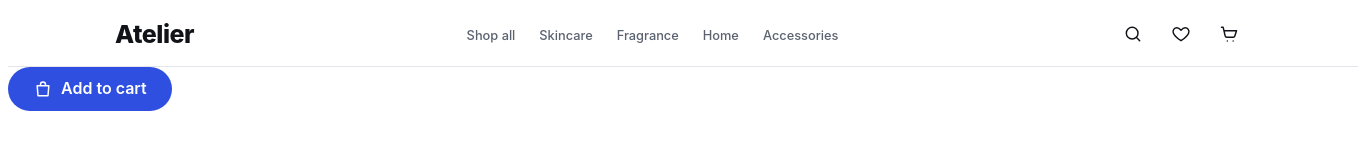
Test: cart logic › adds to the real cart and the header count follows
The image size is (1366, 160).
Expected: the link named "Cart, 0 items" is shown, [1219,24,1239,44]
Click the button "Add to cart".
click(90, 89)  # box [8,67,172,111]
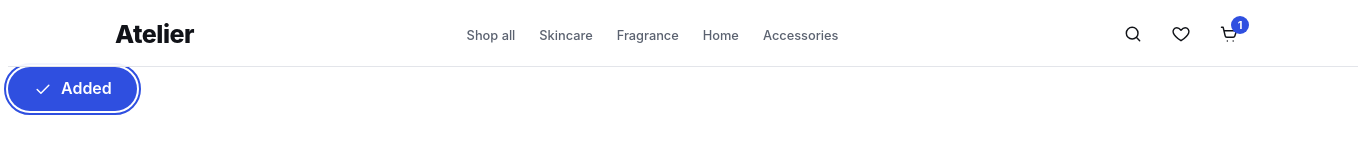
Expected: the link named "Cart, 1 items" is shown, [1219,16,1249,44]
